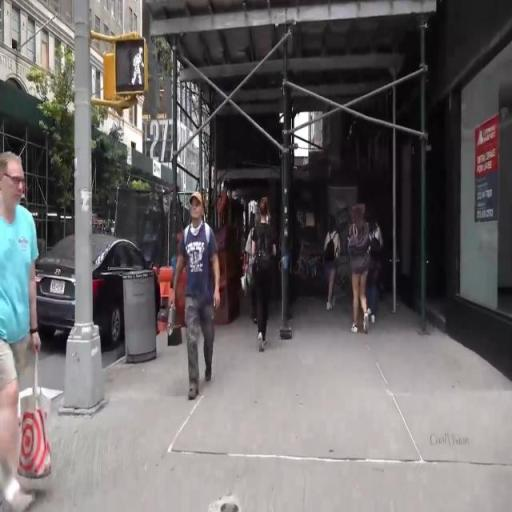person: (2, 147, 55, 510), (182, 197, 225, 400), (255, 201, 287, 363), (347, 212, 373, 347), (367, 204, 388, 328), (326, 217, 346, 328)
